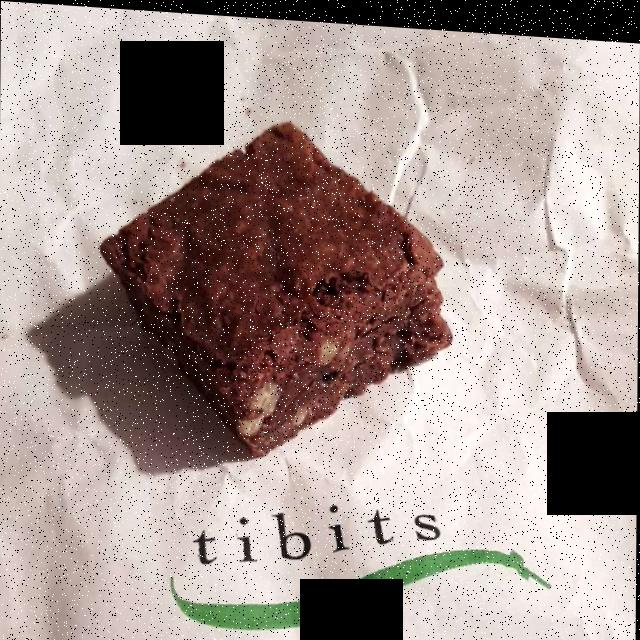nuts: (223, 327, 359, 443)
